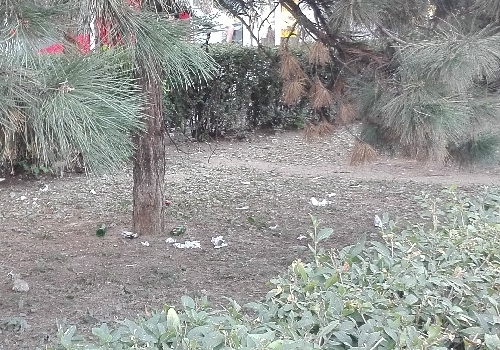trash: (98, 212, 237, 262), (307, 189, 335, 213)
